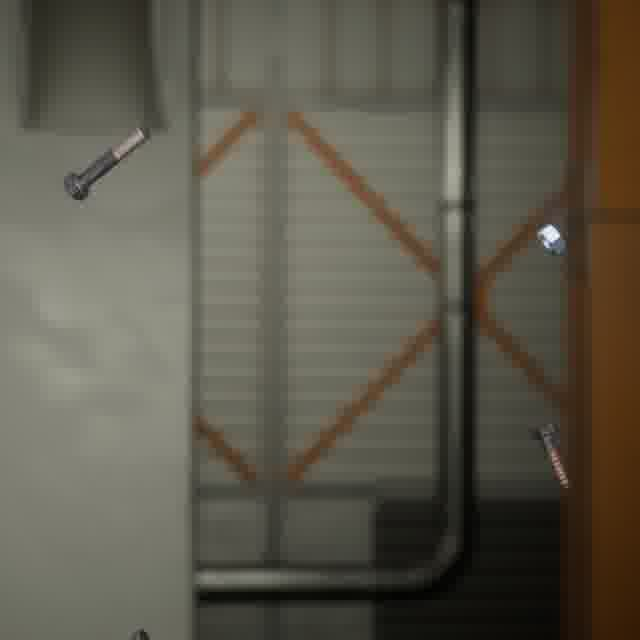bolt: (59, 122, 153, 205), (526, 418, 575, 493)
nut: (532, 219, 570, 259)
